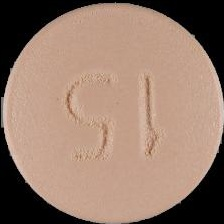0430-0171: (0, 0, 224, 224)
